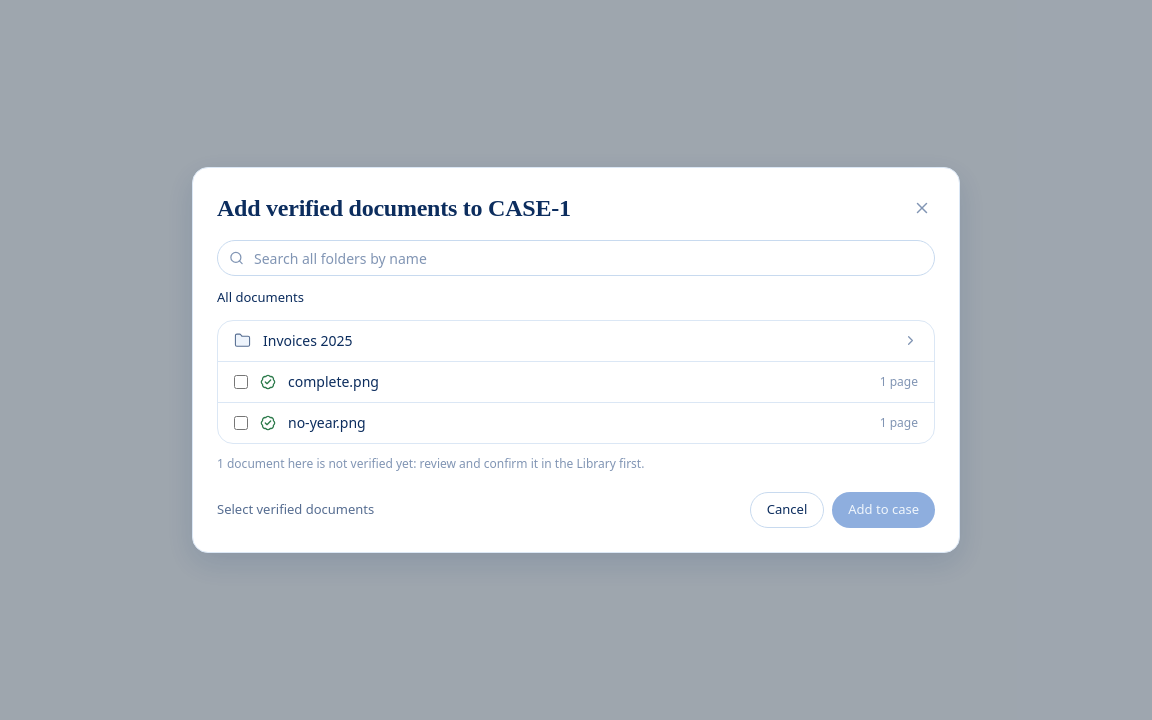
Test case: VerifiedDocumentPicker › adds a complete document without asking, and asks only about the one without a year
Click the checkbox labelled "complete.png 1 page": x=241, y=382 [234,375,248,389]
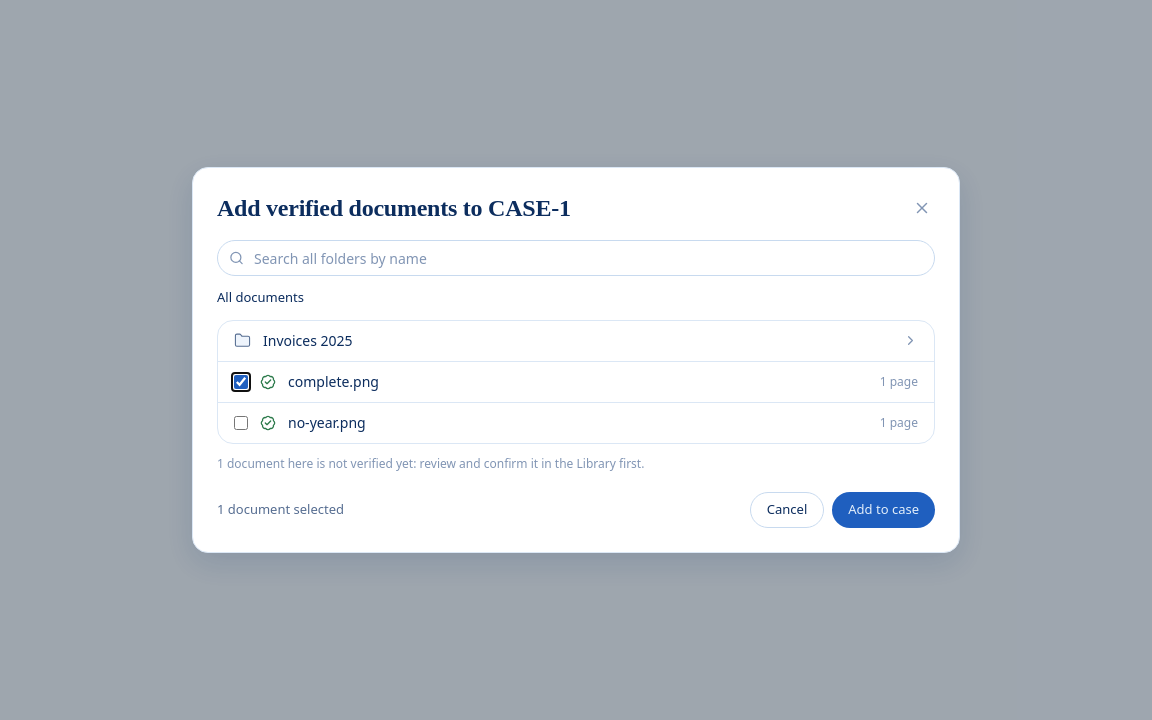
Click the checkbox labelled "no-year.png 1 page": x=241, y=423 [234,416,248,430]
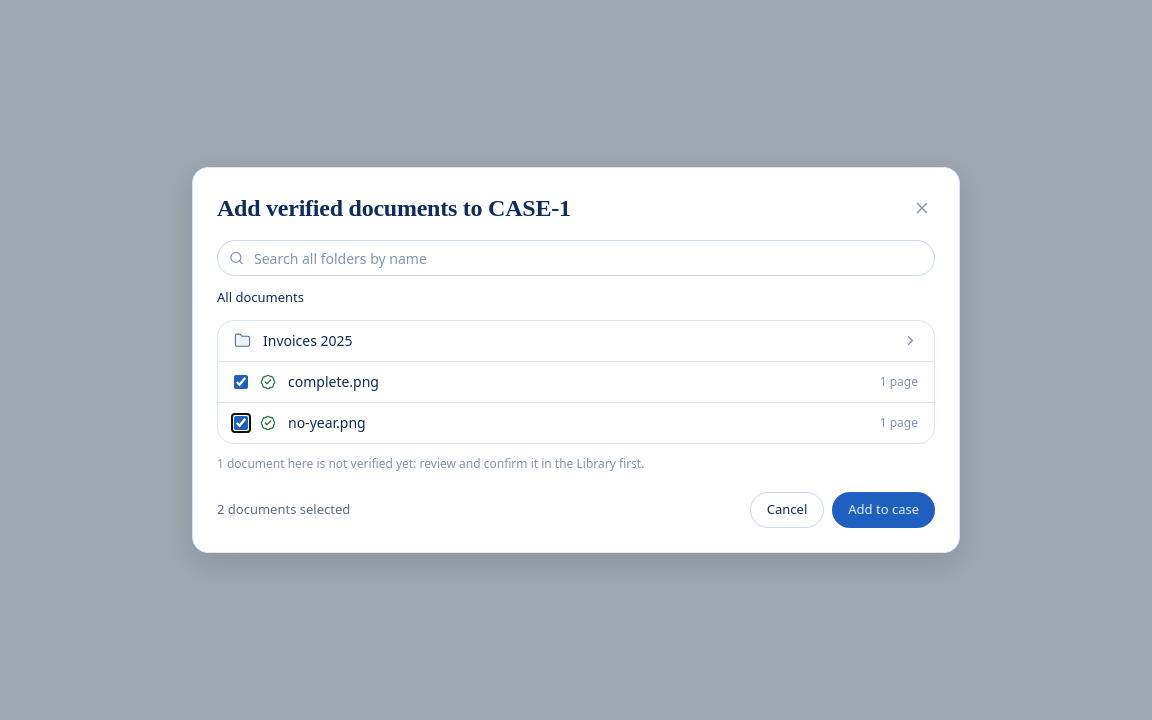
Result: the text "2 documents selected" is shown at [217,500,350,520]
Click the button "Add to case": x=884, y=510 [832,492,935,528]
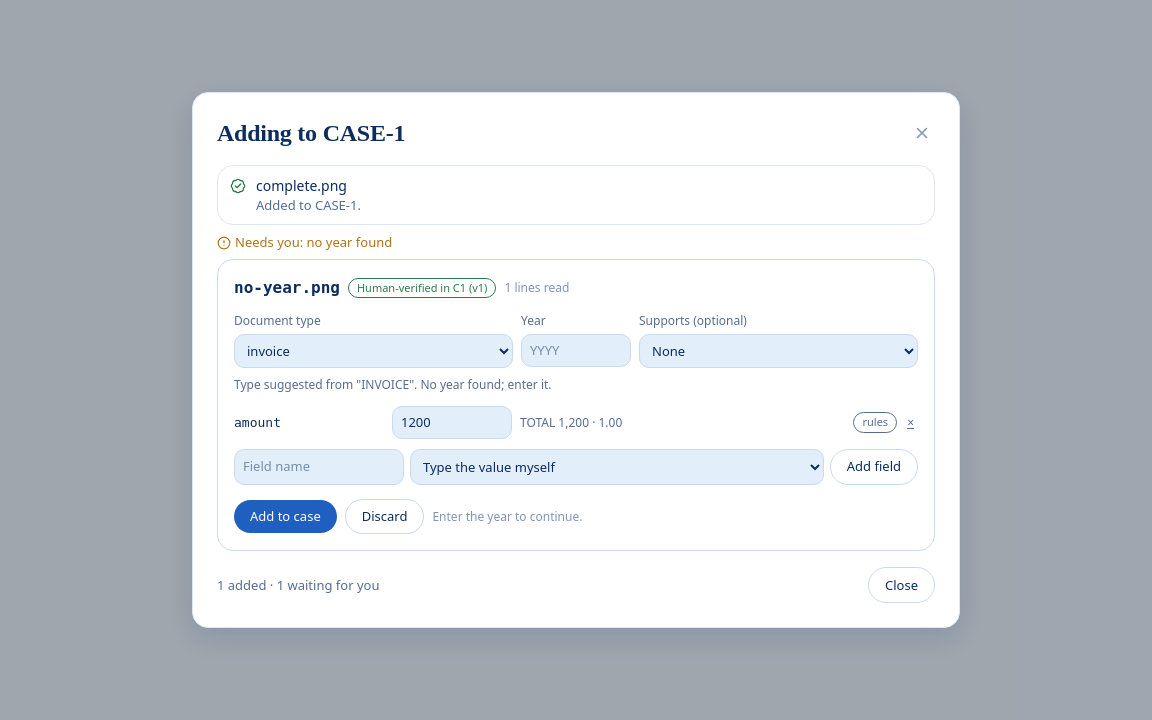
Result: the text "Added to CASE-1." is shown at [256,196,361,214]
Result: the text "Needs you: no year found" is shown at [217,233,392,251]
In the field with placeholder "YYYY": x=576, y=351 [521,334,631,367], type "2024"
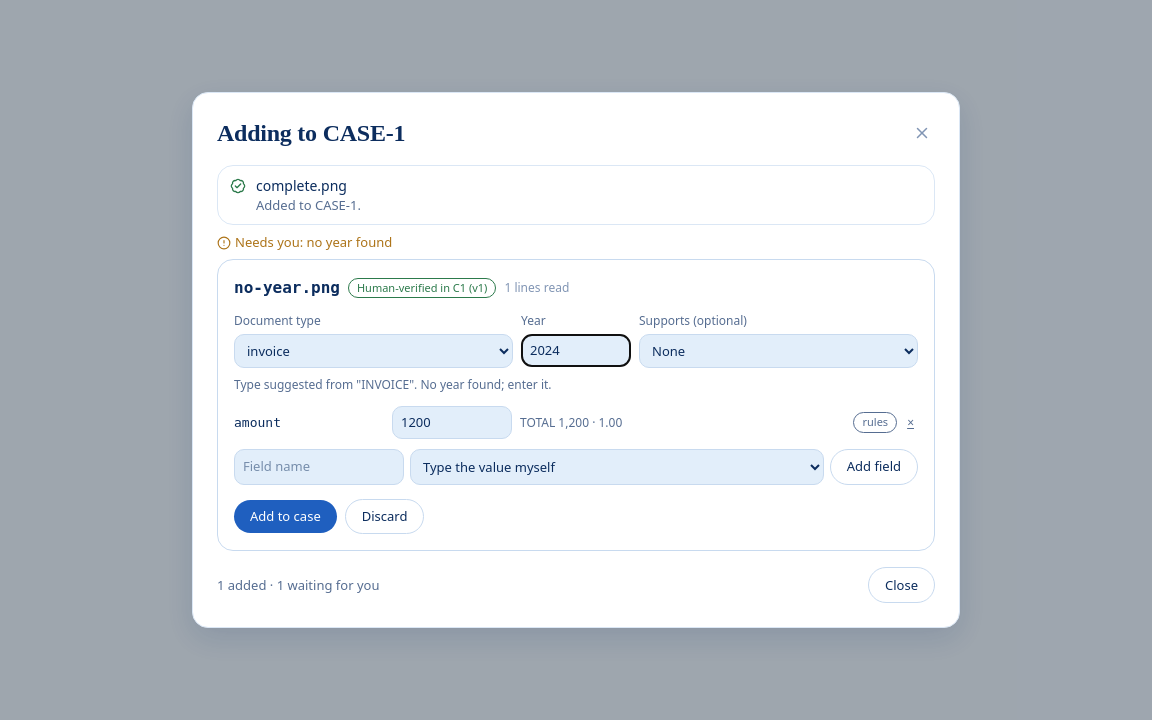
Click the button "Add to case": x=285, y=517 [234,500,337,533]
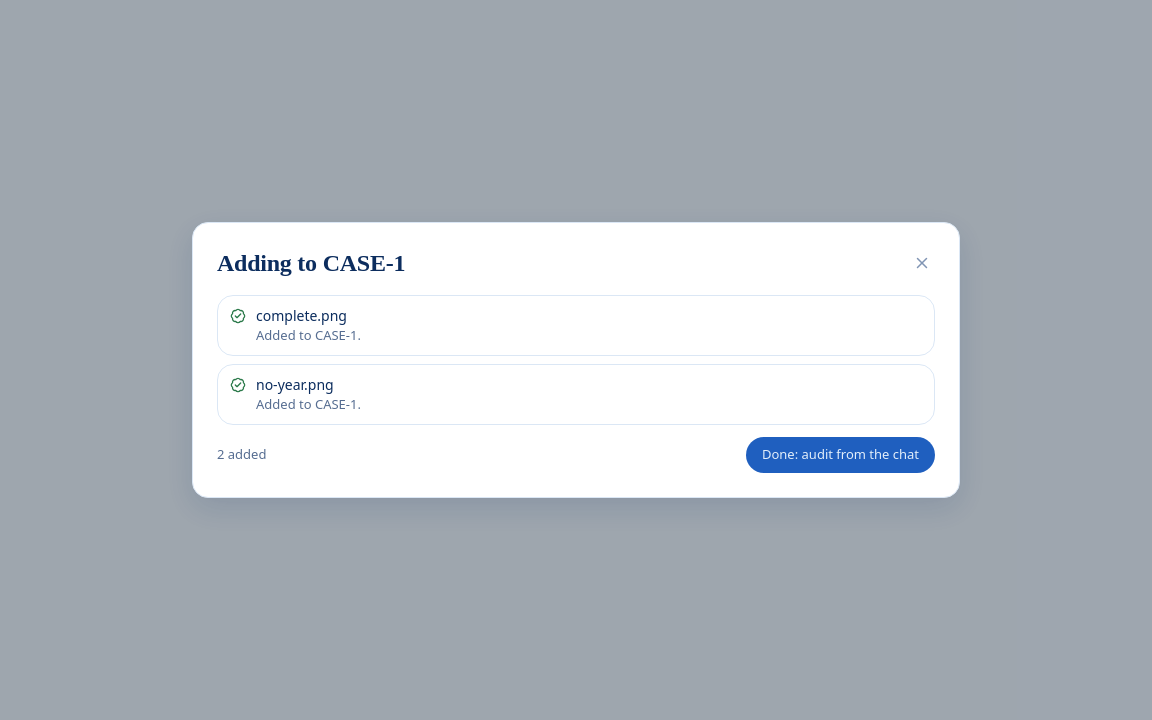
Result: the text "2 added" is shown at [217,445,266,464]
